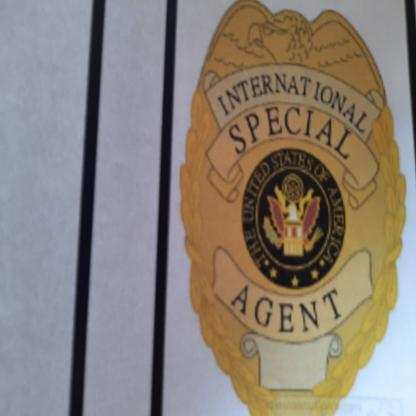G-man: (175, 1, 416, 416)
